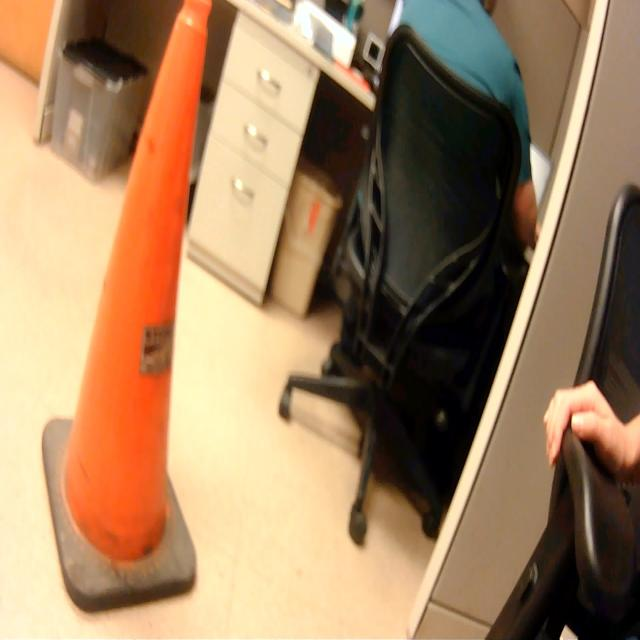traffic cone: (37, 1, 219, 622)
